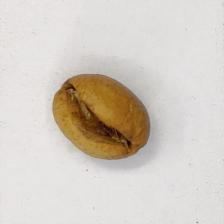NG: (55, 76, 142, 158)
